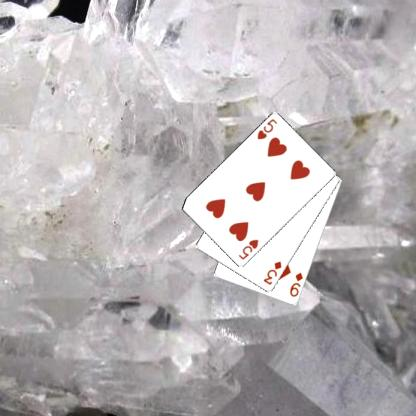3D: (261, 258, 283, 286)
5H: (236, 237, 260, 261), (255, 116, 278, 141)
9D: (287, 270, 305, 298)
